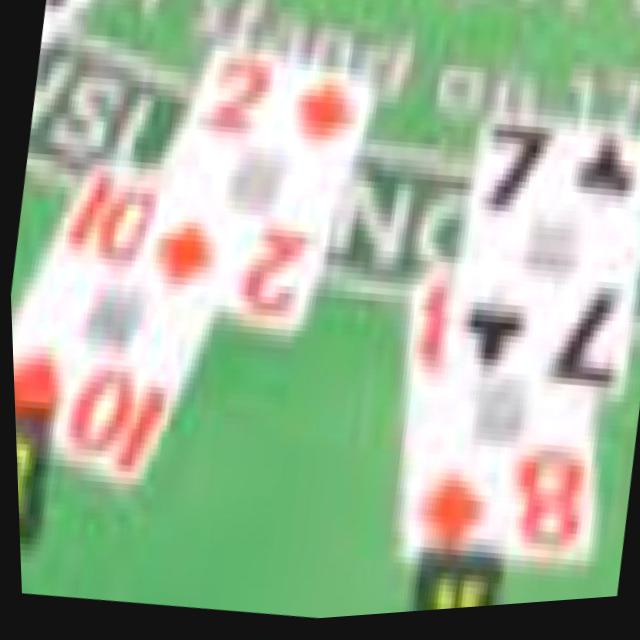Card-10: (10, 166, 209, 482)
Card-2: (146, 55, 373, 330)
Card-7: (446, 122, 640, 410)
Card-8: (394, 274, 594, 574)
